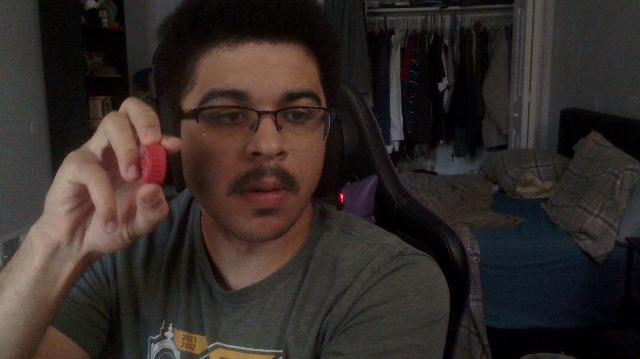cap: (142, 144, 166, 183)
